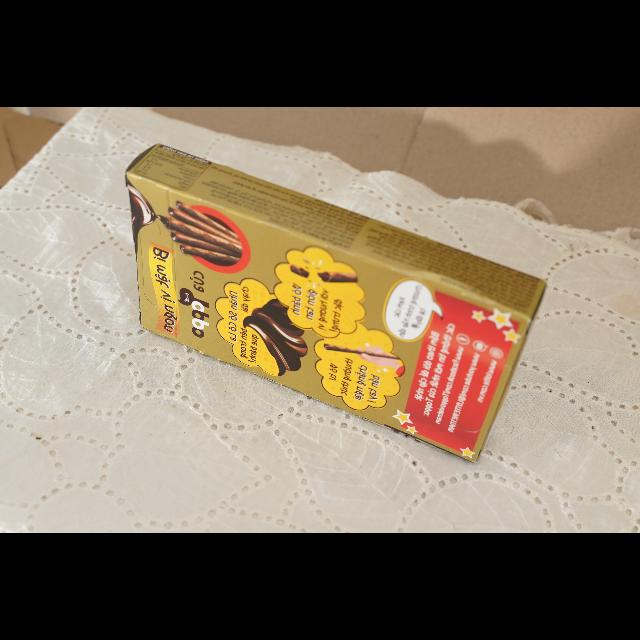banh_toppo_socola: (125, 144, 545, 462)
